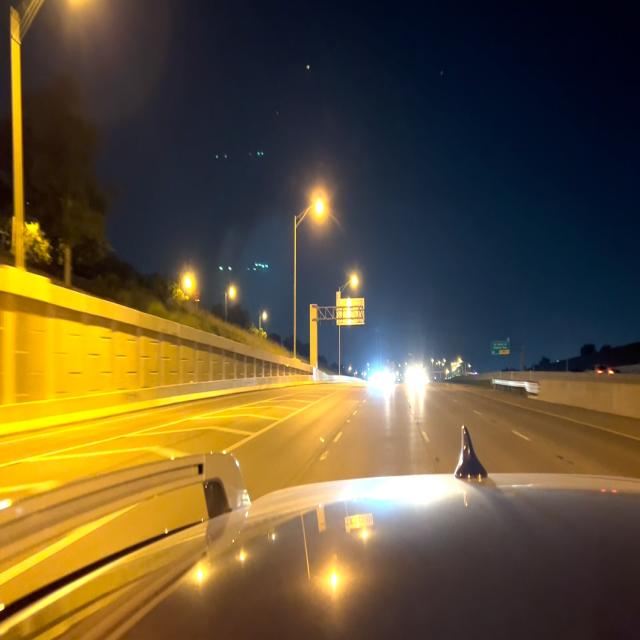back-of-sign: (336, 298, 364, 324)
